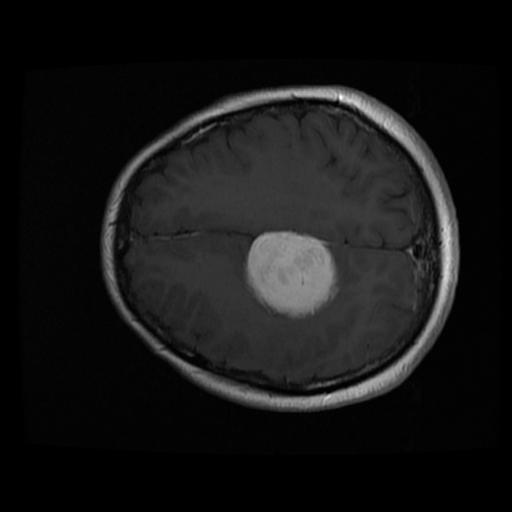meningioma: (246, 231, 335, 319)
